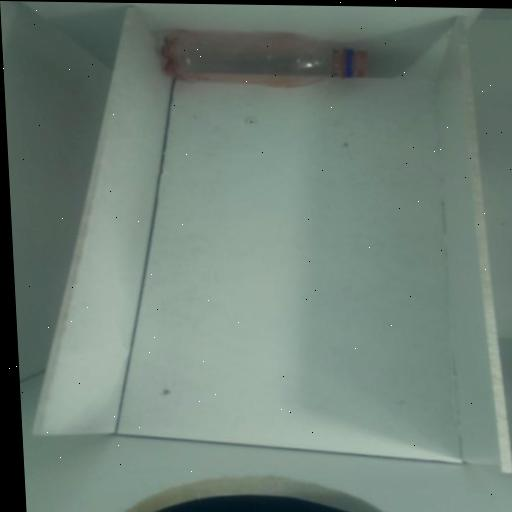ba: (140, 9, 391, 110)
